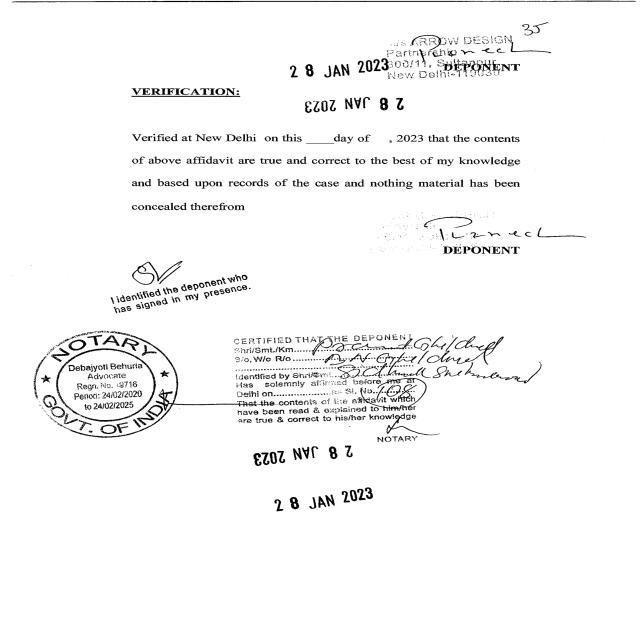page-number: (519, 3, 640, 186)
